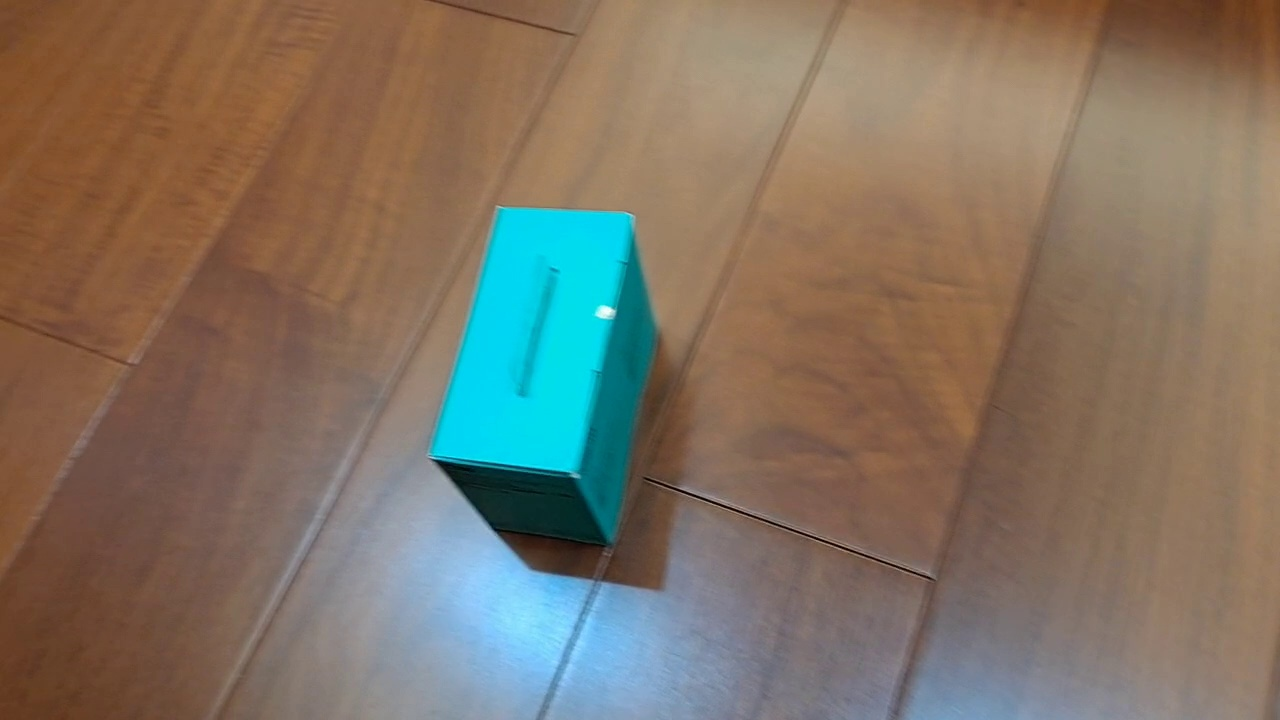webcam: (425, 201, 663, 548)
